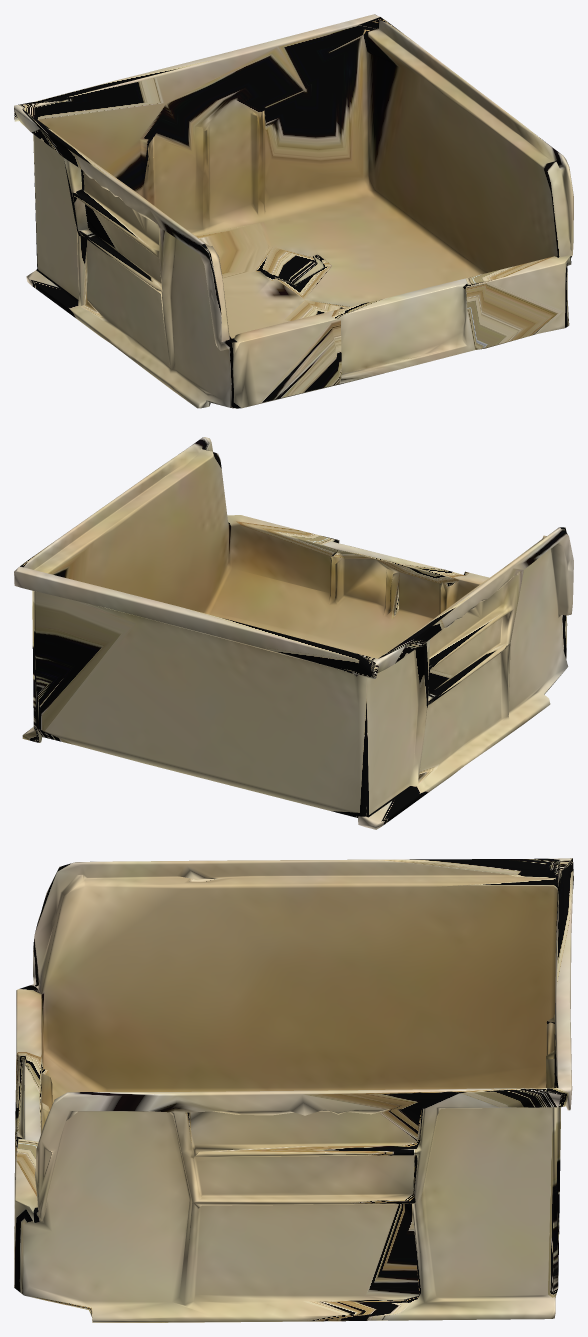
File: gso_avengers_thor_pllrpyniaeb.glb
The picture shows the model from 3 angles, top to bottom: view 1: azimuth 30°, elevation 25°; view 2: azimuth 150°, elevation 25°; view 3: azimuth 270°, elevation 25°; orthographic projection. The views are drawn at different scales.
Parts seen in each view (by area): view 1: z-up-to-y-up; view 2: z-up-to-y-up; view 3: z-up-to-y-up.
Part boxes in pixels (x1,y1,x2,y2): z-up-to-y-up: (14,14,573,408); z-up-to-y-up: (14,437,573,829); z-up-to-y-up: (14,858,573,1322).
Size of the model in its own units: 0.283 by 0.1325 by 0.2809.
1 material, 1 textured.
